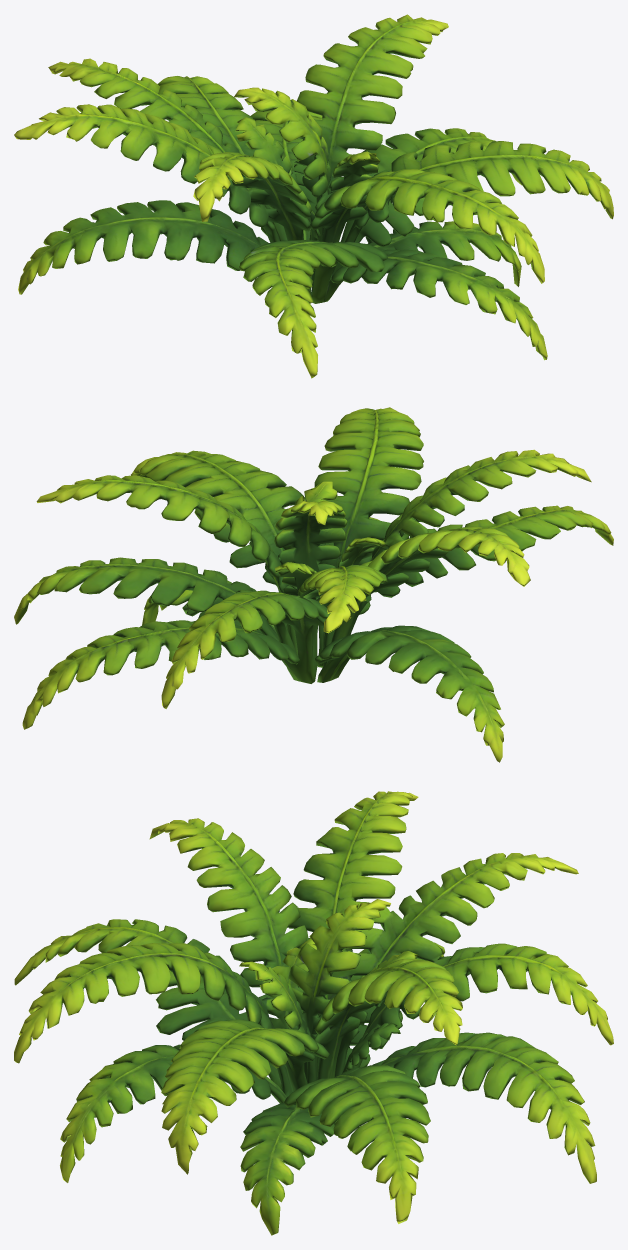
Rendered from fern.glb.
3 views of the same model, one above another, from view 1: azimuth 30°, elevation 25°; view 2: azimuth 150°, elevation 25°; view 3: azimuth 270°, elevation 25° (orthographic). The views are drawn at different scales.
Parts seen in each view (by area): view 1: tripo_node_5783b668-785d-47d9-816c-96057964eecc; view 2: tripo_node_5783b668-785d-47d9-816c-96057964eecc; view 3: tripo_node_5783b668-785d-47d9-816c-96057964eecc.
Boxes of the visible parts, x1=… form: tripo_node_5783b668-785d-47d9-816c-96057964eecc: x1=14, y1=14, x2=613, y2=378; tripo_node_5783b668-785d-47d9-816c-96057964eecc: x1=14, y1=407, x2=613, y2=762; tripo_node_5783b668-785d-47d9-816c-96057964eecc: x1=14, y1=791, x2=613, y2=1235.
Bounding box in the file's own units: 1 × 0.4409 × 0.9926.
1 material, 1 textured.
